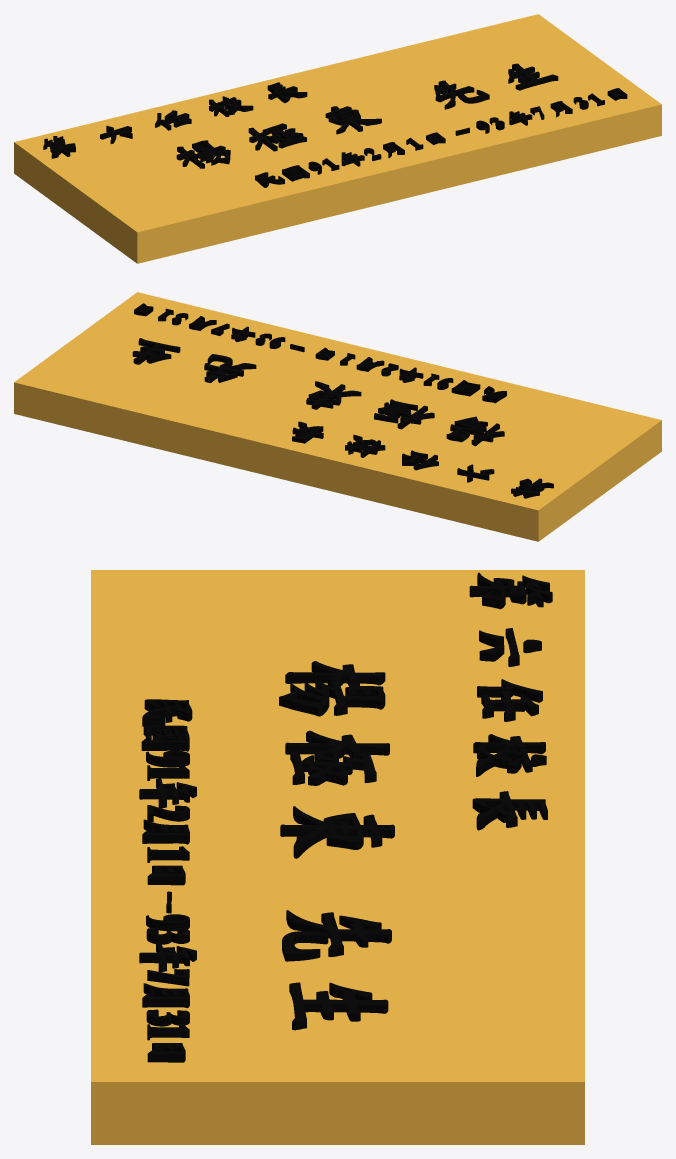
Rendered from 第六任.FBX.
3 views of the same model, one above another, from view 1: azimuth 30°, elevation 25°; view 2: azimuth 150°, elevation 25°; view 3: azimuth 270°, elevation 25° (orthographic). The views are drawn at different scales.
Parts seen in each view (by area): view 1: Box002, Text021, Text019, Text020; view 2: Box002, Text021, Text019, Text020; view 3: Box002, Text021, Text019, Text020.
Boxes of the visible parts, x1,y1,x2,y2 form: Box002: (14,14,661,263); Text021: (176,63,558,168); Text019: (255,88,627,187); Text020: (43,82,307,158); Box002: (14,292,661,541); Text021: (132,338,504,446); Text019: (134,303,506,403); Text020: (292,421,553,498); Box002: (91,570,584,1144); Text021: (279,661,394,1030); Text019: (139,699,196,1062); Text020: (469,572,552,830).
Bounding box in the file's own units: 469 × 30.46 × 191.
